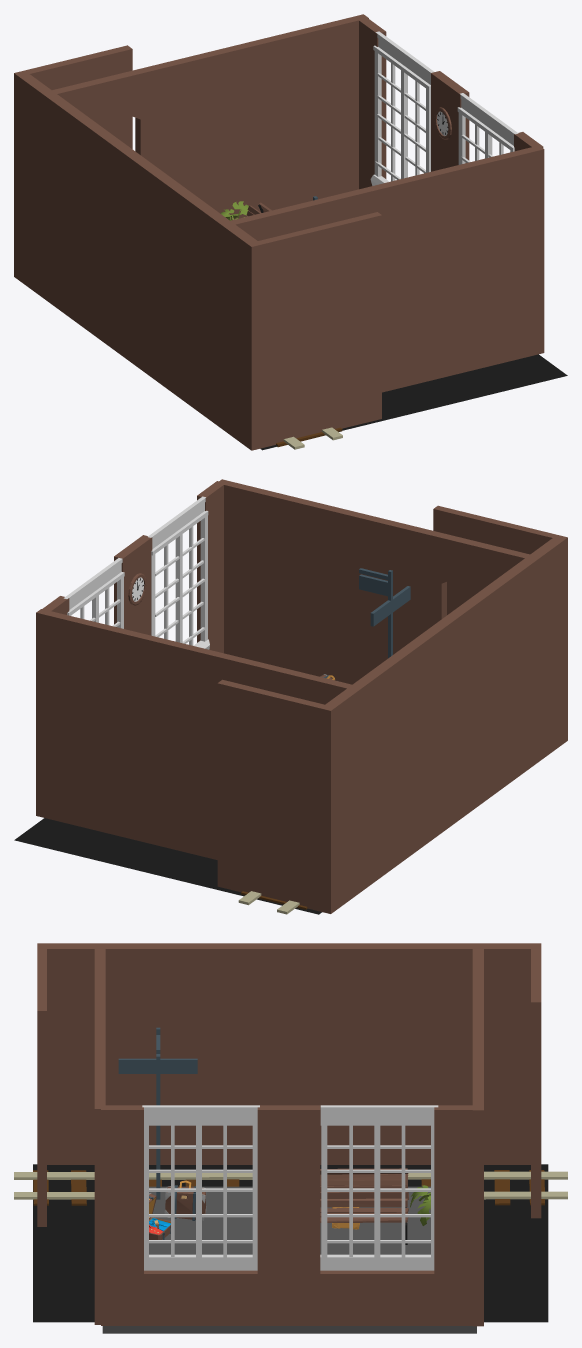
The model's file is escenario 3.fbx.
The picture shows the model from 3 angles, top to bottom: view 1: azimuth 30°, elevation 25°; view 2: azimuth 150°, elevation 25°; view 3: azimuth 270°, elevation 25°; orthographic projection. The views are drawn at different scales.
Parts seen in each view (by area): view 1: Cube.025, Cube.001, Cube.028, Cube.026, group1175033814.002, Plane, group1175033814.001, Cube.004; view 2: Cube.025, Cube.028, Cube.001, Plane, Cube.026, group1175033814.001, group1175033814.002, Cubo, Cube.004; view 3: Cube.025, Cube.026, Plane, Cube, group1175033814.002, group1175033814.001, Cube.028, Cube.004, Cube.001, Node.001, Cubo, group881833563 (+1 smaller).
Boxes of the visible parts, box(x1,y1,x2,y2) form: Cube.025: box(14, 45, 381, 450); Cube.001: box(230, 147, 544, 392); Cube.028: box(50, 14, 368, 219); Cube.026: box(359, 18, 543, 189); group1175033814.002: box(370, 31, 434, 185); Plane: box(260, 354, 567, 450); group1175033814.001: box(457, 93, 518, 164); Cube.004: box(276, 427, 342, 449); Cube.025: box(217, 505, 567, 913); Cube.028: box(36, 609, 351, 859); Cube.001: box(219, 479, 529, 684); Plane: box(14, 818, 321, 914); Cube.026: box(42, 481, 225, 653); group1175033814.001: box(147, 496, 209, 649); group1175033814.002: box(63, 558, 124, 628); Cubo: box(359, 568, 410, 658); Cube.004: box(238, 891, 307, 914); Cube.025: box(37, 943, 541, 1226); Cube.026: box(101, 1105, 472, 1325); Plane: box(33, 1164, 548, 1322); Cube: box(102, 1186, 476, 1333); group1175033814.002: box(320, 1105, 438, 1270); group1175033814.001: box(142, 1105, 259, 1270); Cube.028: box(472, 948, 483, 1326); Cube.004: box(14, 1170, 567, 1205); Cube.001: box(94, 949, 105, 1324); Node.001: box(320, 1174, 408, 1244); Cubo: box(118, 1027, 197, 1199); group881833563: box(164, 1180, 206, 1220).
Size of the model in its own units: 422 by 270 by 592.
